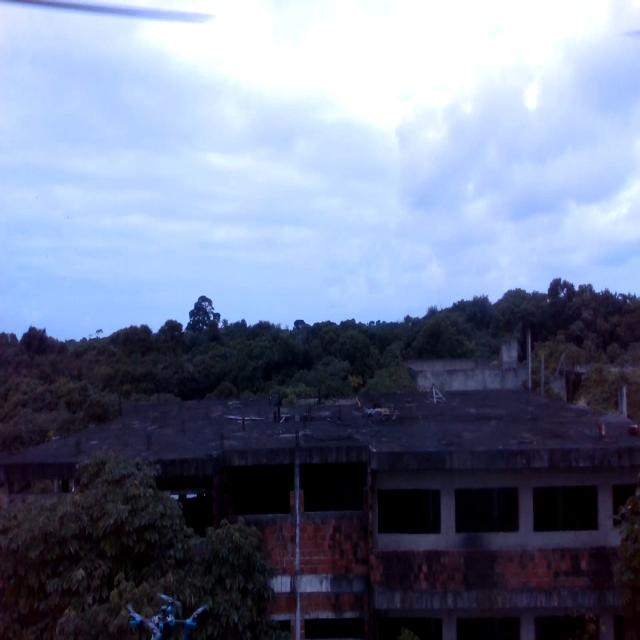-uav-: (121, 575, 223, 640)
